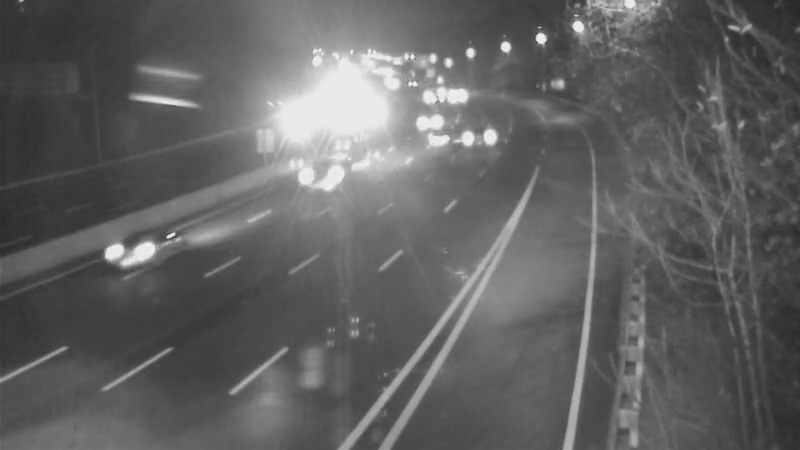vehicle: (290, 134, 370, 214), (97, 207, 177, 287), (405, 93, 455, 143), (455, 108, 505, 158)
